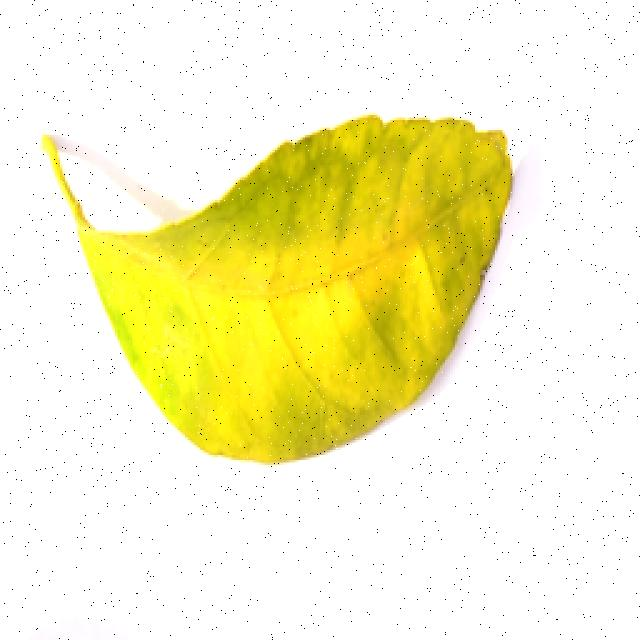greening: (39, 82, 524, 474)
